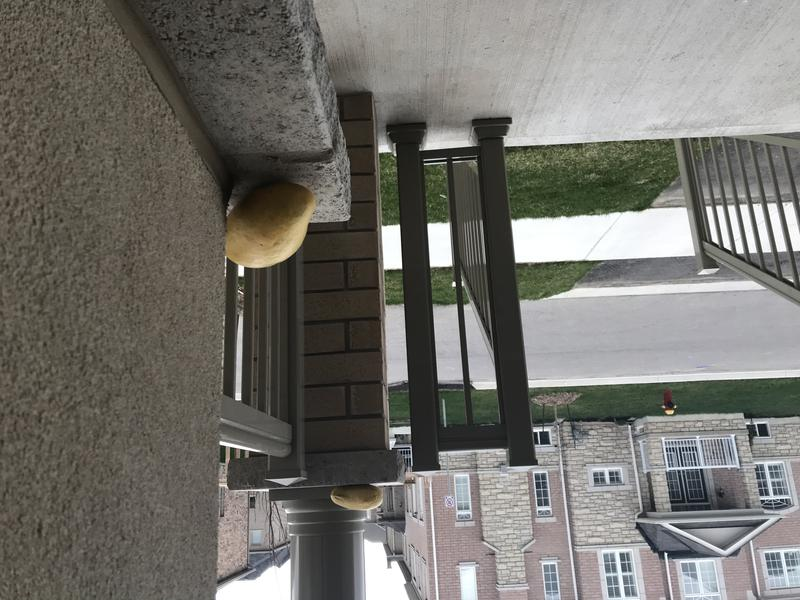mango: (220, 171, 321, 278), (328, 478, 386, 512)
